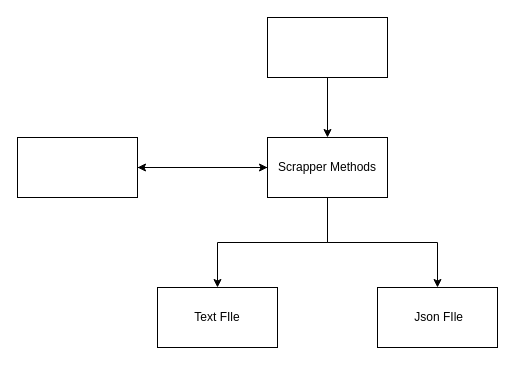
This 515x365 diagram has some shape labels left out. Here are the shapes that lost their labels. From the top down, the centre of each, then its label:
At (x=327, y=47): "App".
At (x=77, y=167): "Dir Scrapper".
